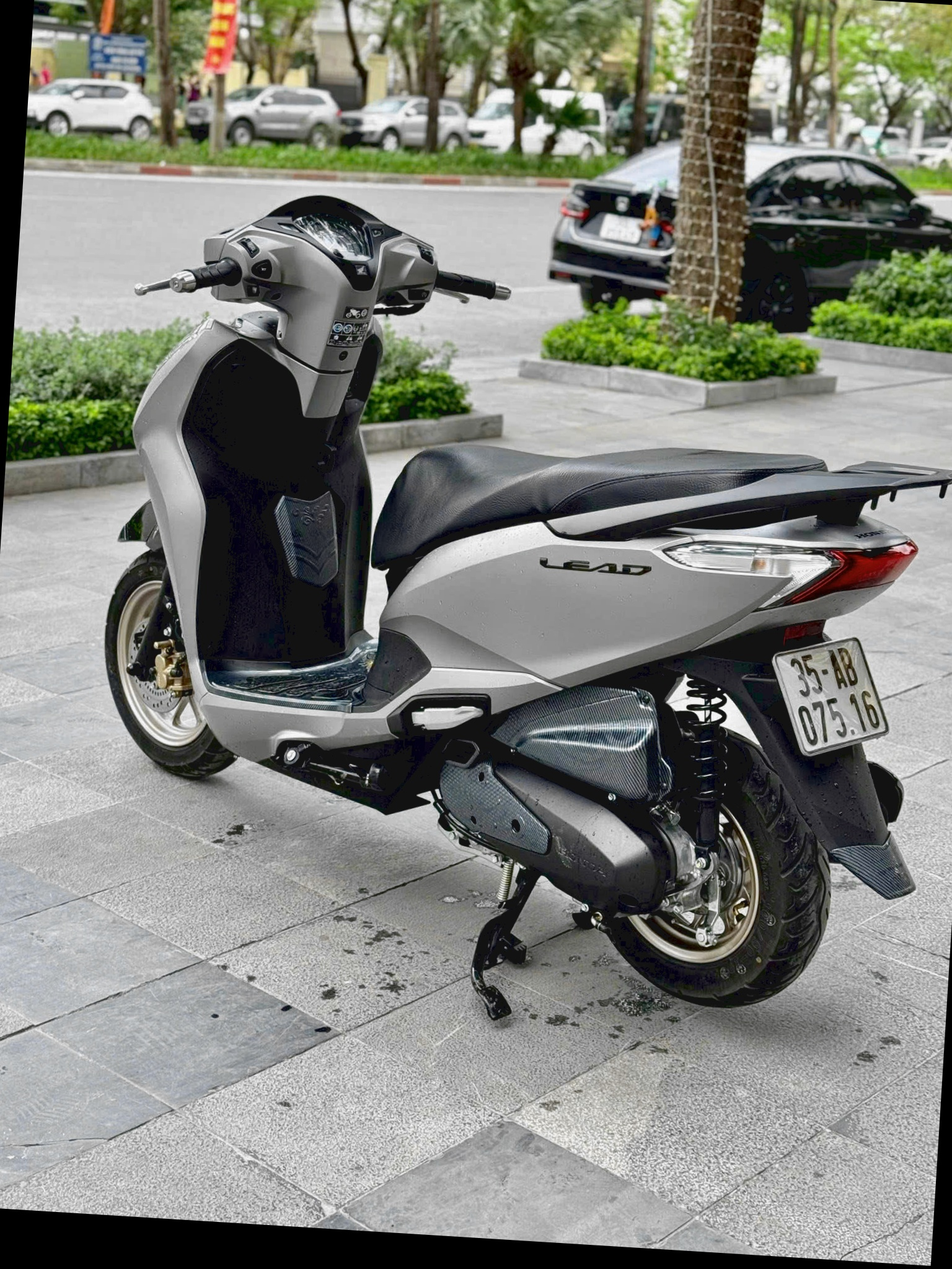Bien-so: (742, 643, 880, 795)
